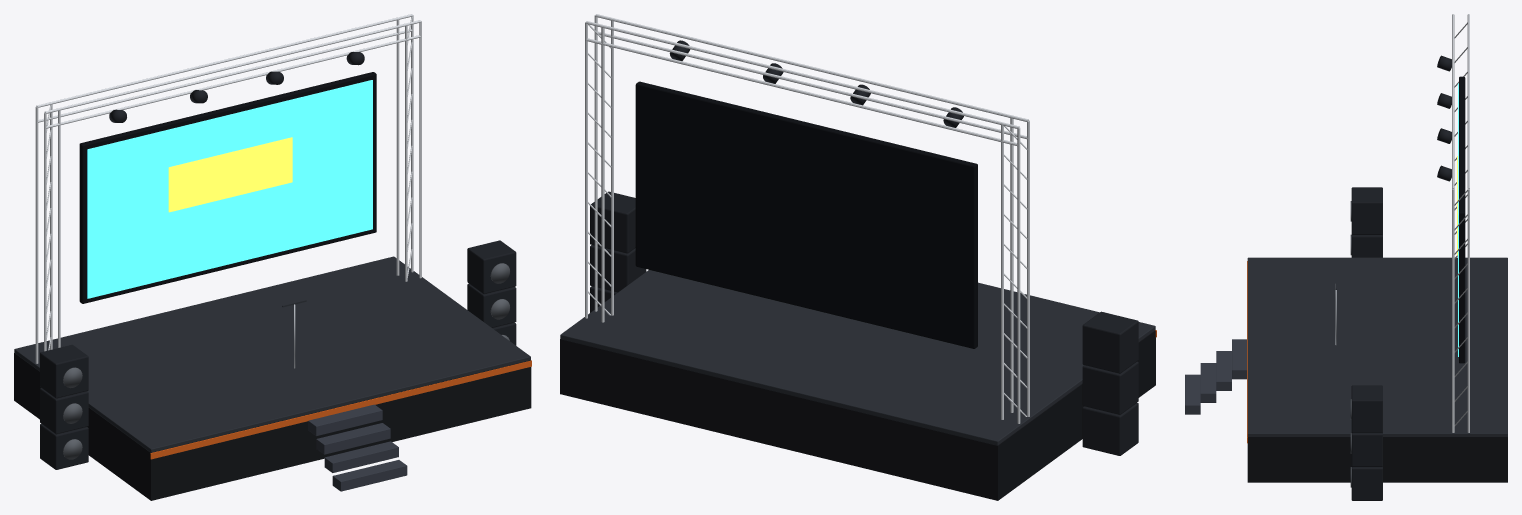
File: stage.glb
3 views of the same model, side by side, from view 1: azimuth 30°, elevation 25°; view 2: azimuth 150°, elevation 25°; view 3: azimuth 270°, elevation 25° (orthographic). The views are drawn at different scales.
Visible parts, largest first — view 1: Cube.019, Cube.027, Cube.020, Cube.026, Cube.028, Cube.021, Cube.034, Cube.031, Cube.030, Cube.029, Cube.033, Cube.025 (+15 smaller); view 2: Cube.026, Cube.019, Cube.020, Cube.031, Cube.030, Cube.029, Cube.034, Cylinder.058, Cylinder.059, Cylinder.061, Cylinder.060, Cube.033 (+8 smaller); view 3: Cube.019, Cube.020, Cube.026, Cube.031, Cube.034, Cube.032, Cube.033, Cube.030, Cylinder.046, Cylinder.047, Cube.024, Cube.025 (+4 smaller).
Part boxes in pixels (<box>): Cube.019: <box>14,256,530,452</box>; Cube.027: <box>87,80,372,298</box>; Cube.020: <box>14,353,531,500</box>; Cube.026: <box>79,72,376,303</box>; Cube.028: <box>168,137,292,212</box>; Cube.021: <box>150,360,531,459</box>; Cube.034: <box>467,240,516,293</box>; Cube.031: <box>40,344,88,398</box>; Cube.030: <box>40,388,88,434</box>; Cube.029: <box>40,424,88,469</box>; Cube.033: <box>467,283,516,327</box>; Cube.025: <box>332,460,407,491</box>; Cube.026: <box>635,81,977,348</box>; Cube.019: <box>560,270,1155,445</box>; Cube.020: <box>560,330,1155,500</box>; Cube.031: <box>1082,311,1138,373</box>; Cube.030: <box>1082,361,1138,414</box>; Cube.029: <box>1082,403,1138,455</box>; Cube.034: <box>590,191,635,253</box>; Cylinder.058: <box>595,14,1028,121</box>; Cylinder.059: <box>586,21,1019,128</box>; Cylinder.061: <box>586,38,1017,146</box>; Cylinder.060: <box>595,31,1027,139</box>; Cube.033: <box>590,245,646,292</box>; Cube.019: <box>1247,257,1507,437</box>; Cube.020: <box>1247,437,1507,482</box>; Cube.026: <box>1459,76,1465,363</box>; Cube.031: <box>1351,187,1382,234</box>; Cube.034: <box>1351,385,1382,432</box>; Cube.032: <box>1351,466,1382,500</box>; Cube.033: <box>1351,432,1382,466</box>; Cube.030: <box>1351,234,1382,257</box>; Cylinder.046: <box>1452,189,1454,432</box>; Cylinder.047: <box>1467,189,1469,432</box>; Cube.024: <box>1200,363,1216,402</box>; Cube.025: <box>1185,374,1200,414</box>.
Bounding box in the file's own units: 9.7 × 6.32 × 6.2.
